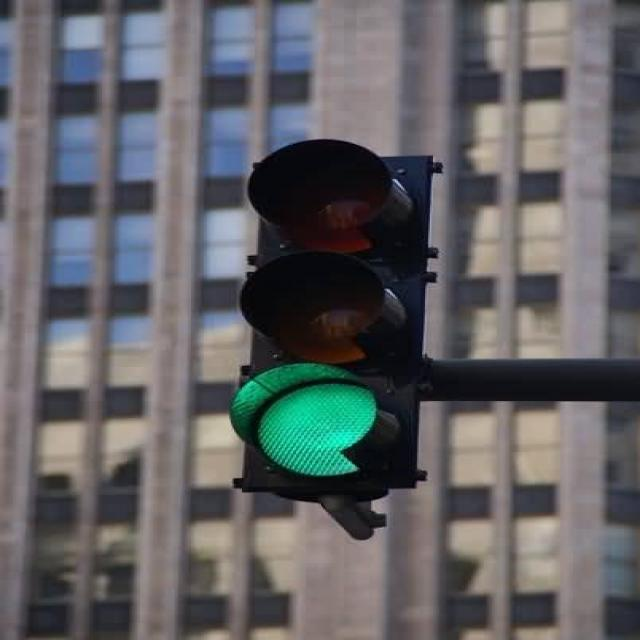green_light: (245, 145, 416, 484)
